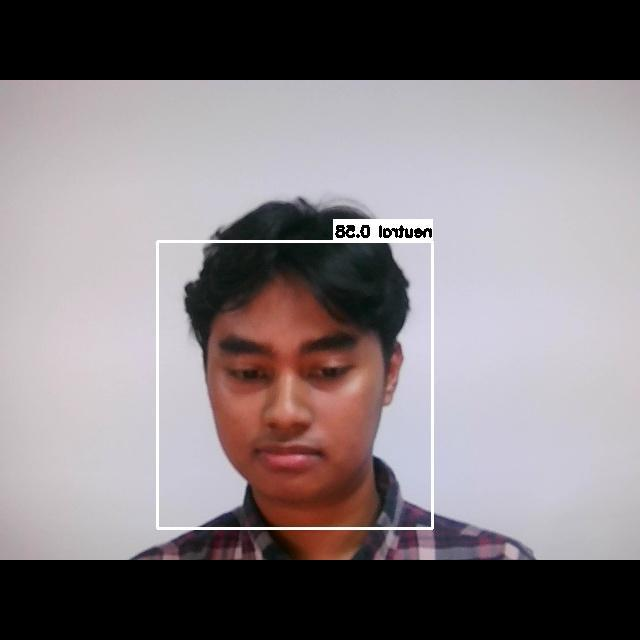Natural: (198, 308, 382, 485)
